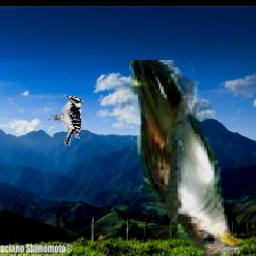Cuckoo: (129, 60, 243, 256)
Woodpecker: (48, 94, 82, 146)
